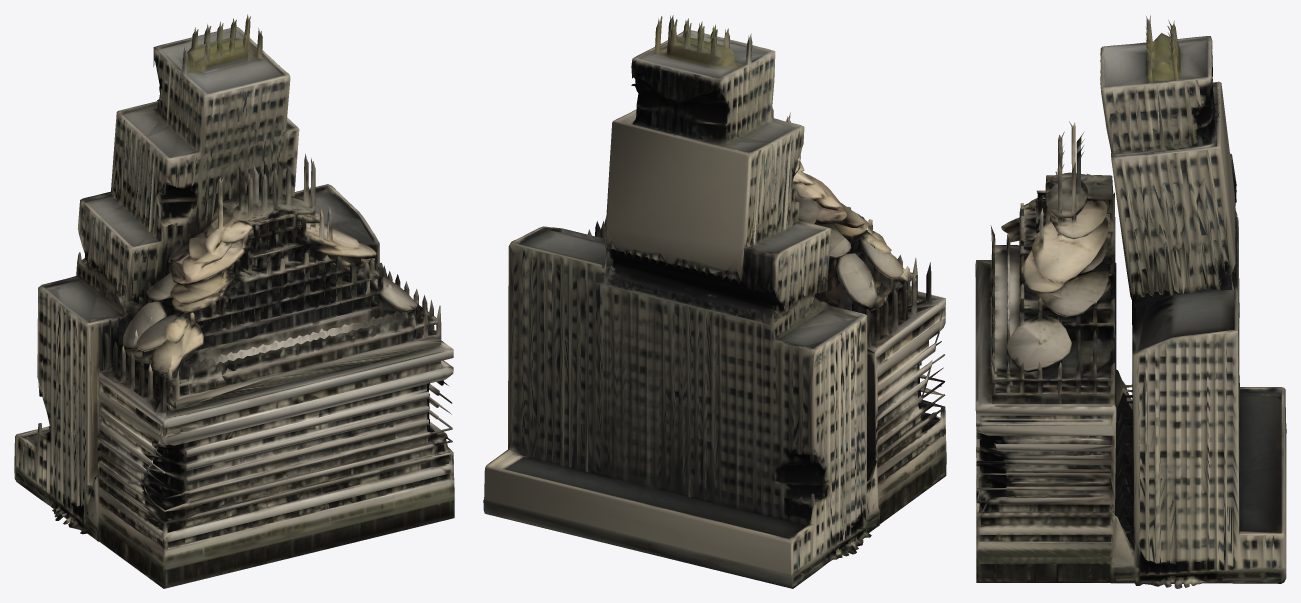
3 views of the same model, side by side, from view 1: azimuth 30°, elevation 25°; view 2: azimuth 150°, elevation 25°; view 3: azimuth 270°, elevation 25° (orthographic). The views are drawn at different scales.
Visible parts, largest first — view 1: node_0.027; view 2: node_0.027; view 3: node_0.027.
Boxes of the visible parts, bbox=[...] form: node_0.027: bbox=[14, 14, 454, 588]; node_0.027: bbox=[483, 15, 946, 588]; node_0.027: bbox=[975, 15, 1286, 588].
Bounding box in the file's own units: 6.76 × 9.54 × 5.59.
Materials: 1 (1 with a texture image).
